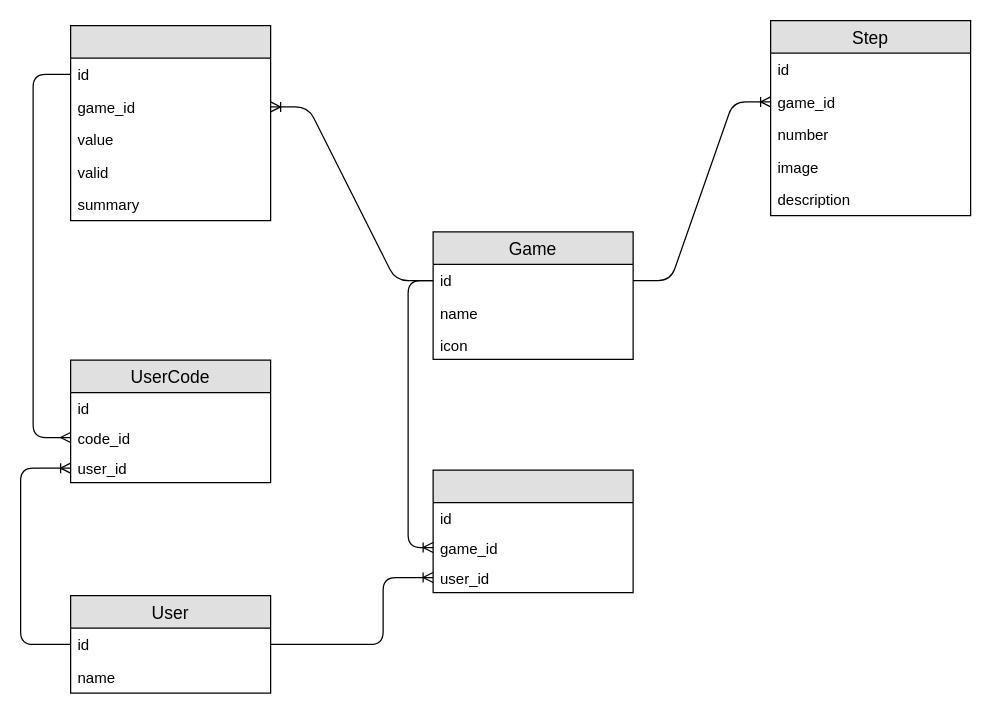
Some shapes in this 991 by 714 pixel diagram are drawn without their labels. The shapes that lost their labels are listed below. From the top down, each one's box as (x1, y1, x2, y2) in pixels, then its label:
(69, 24, 271, 221): Code
(432, 469, 633, 592): UserGame
